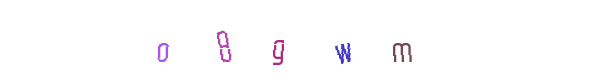8: (235, 0, 315, 80)
G: (267, 0, 347, 80)
M: (304, 0, 384, 80)
O: (200, 0, 280, 80)
W: (300, 0, 380, 80)
